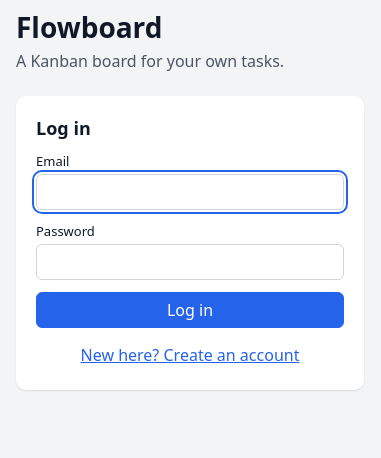
Test: AuthScreen › shows the server error in an alert and lets the user retry
Type "ada@example.com" into the field labelled "Email".
click(190, 192); type("ada@example.com")  # box [36,174,344,210]
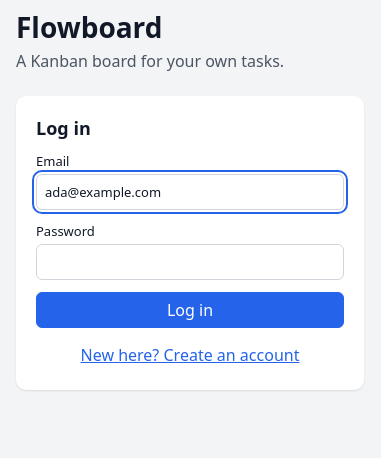
Type "longenough1" into the password field labelled "Password".
click(190, 262); type("longenough1")  # box [36,244,344,280]
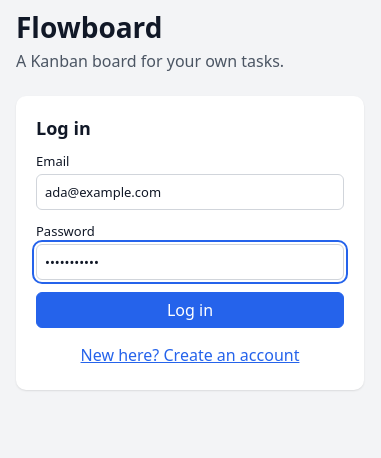
Click the button "Log in".
click(190, 310)  # box [36,292,344,328]
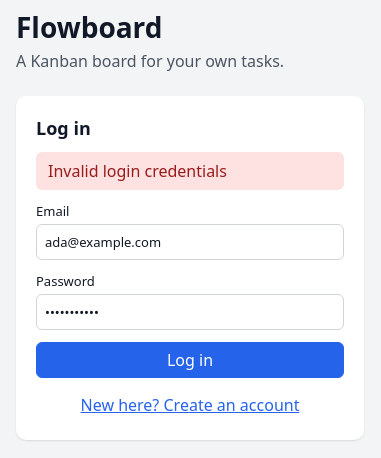
Check: the button "Log in" is enabled, box [36,342,344,378]
Check: the message reads "Invalid login credentials", box [48,160,227,182]
